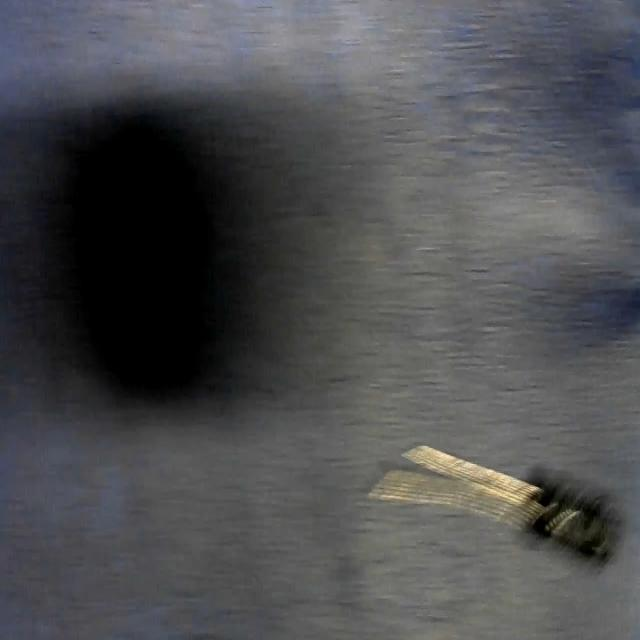capacitor: (372, 443, 627, 572)
